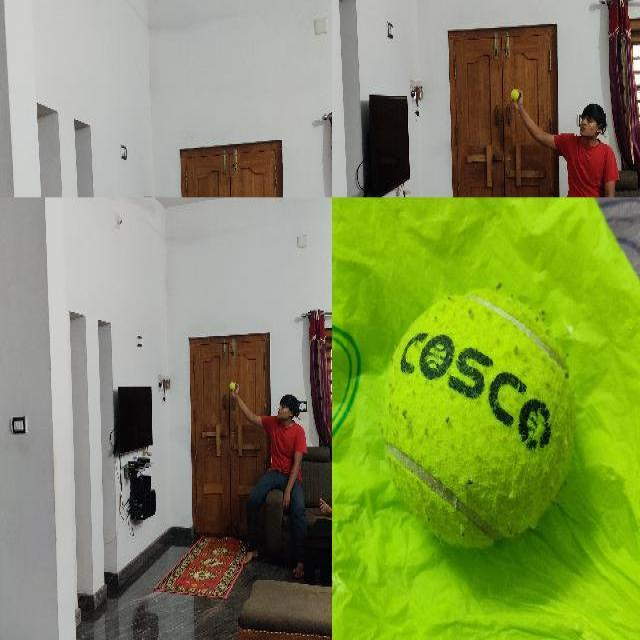tennis-ball: (378, 287, 576, 549), (510, 89, 518, 99), (229, 382, 235, 390)
